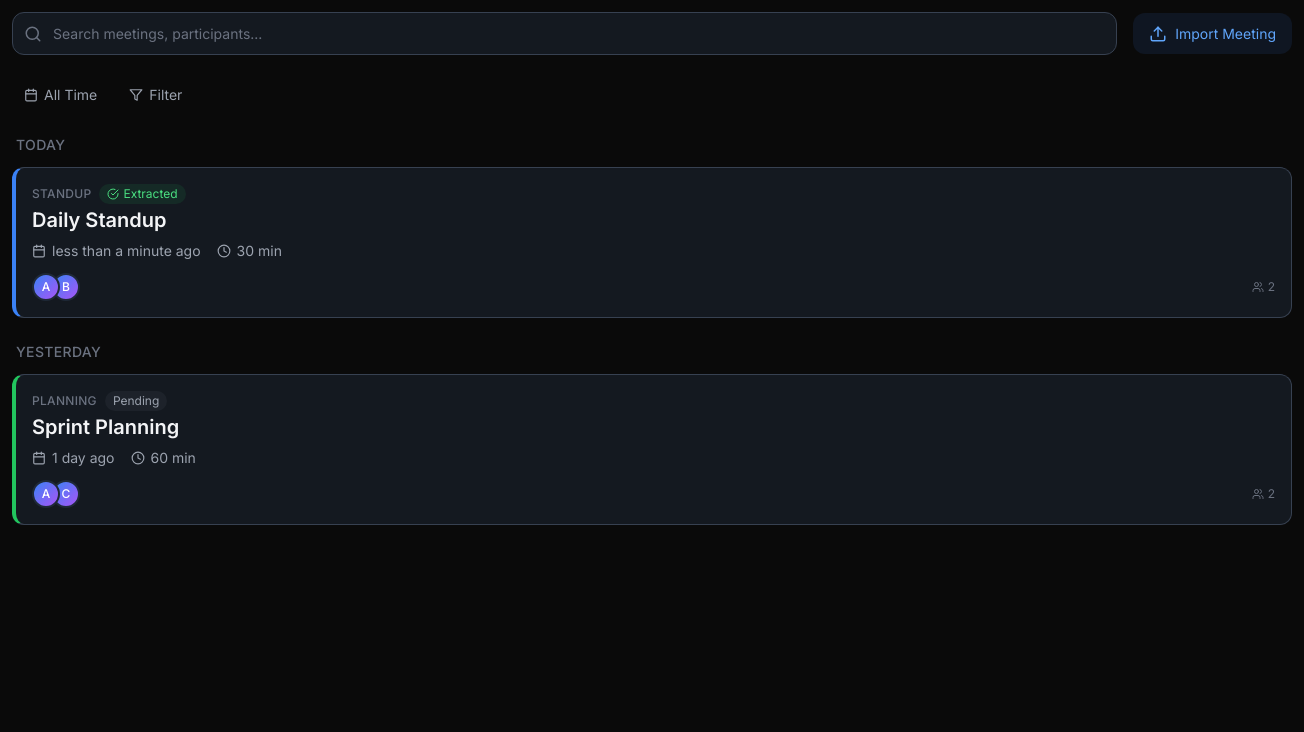
MeetingList › filters meetings by search query
Step 1. Type "Standup" into the field with placeholder "Search meetings, participants..." → (565, 34), box [12, 12, 1117, 55]
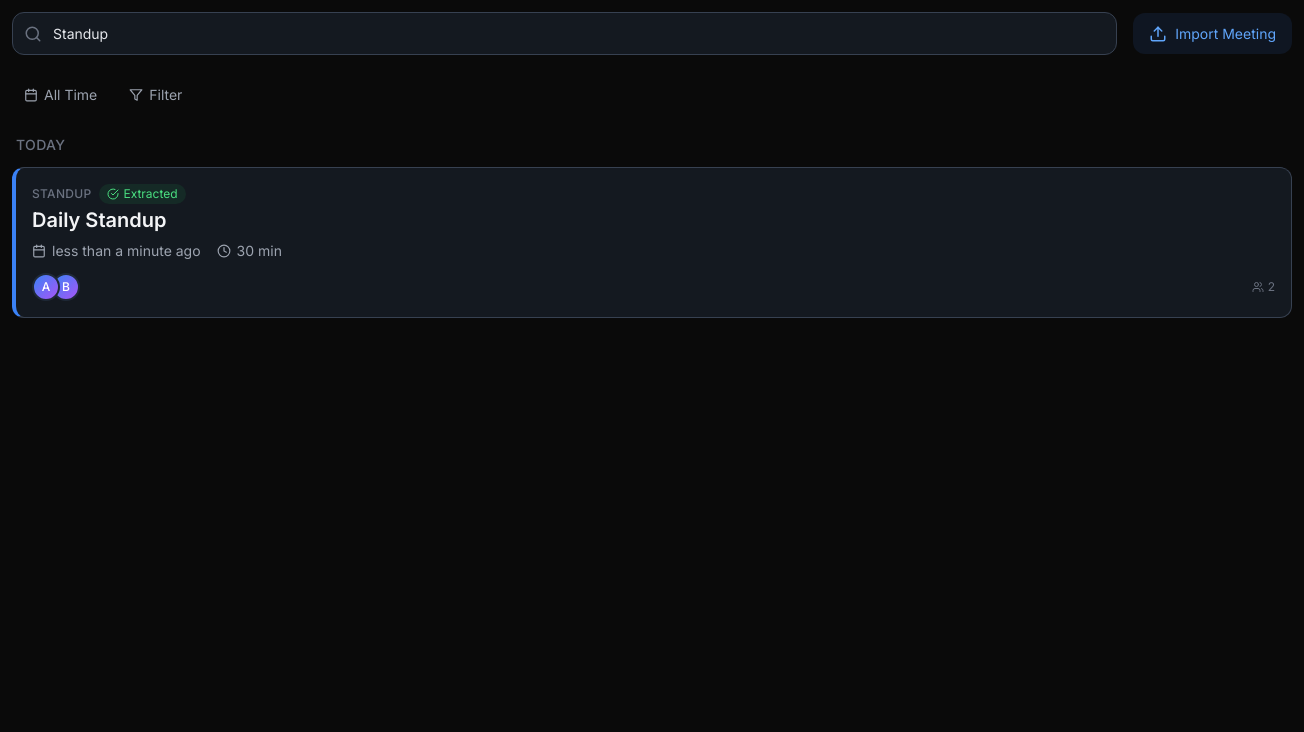
expect the heading "Daily Standup" is shown: met, box [32, 208, 166, 232]
expect the heading "Sprint Planning" is gone: met
